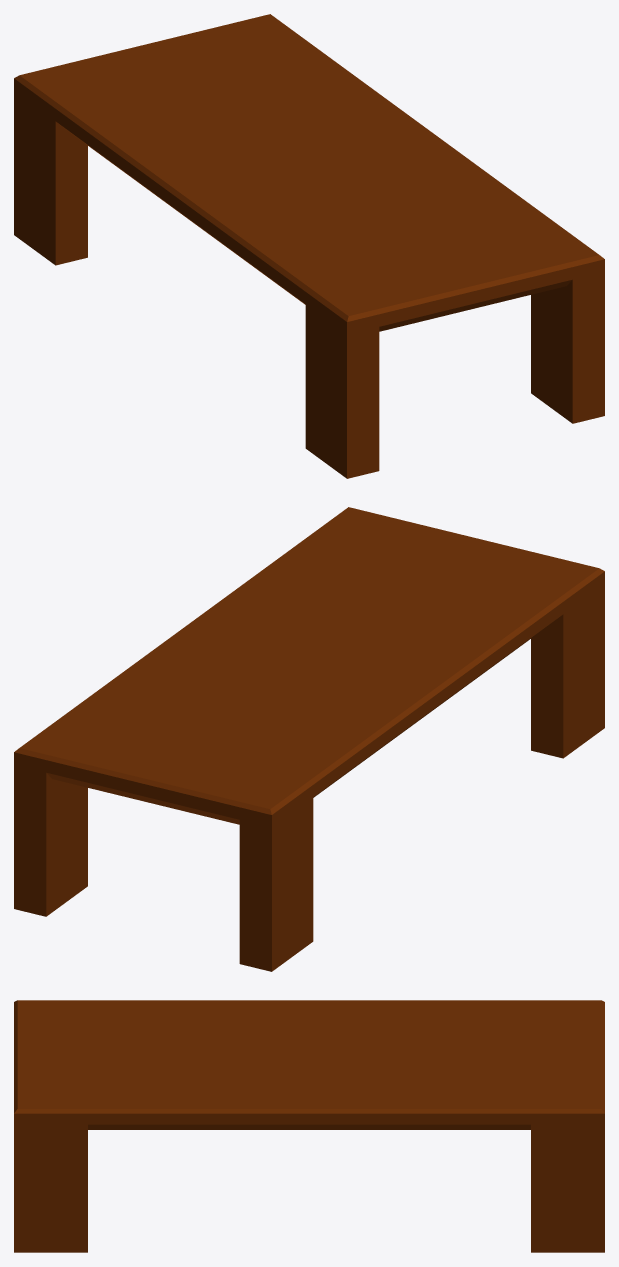
The model's file is Table.fbx.
3 views of the same model, one above another, from view 1: azimuth 30°, elevation 25°; view 2: azimuth 150°, elevation 25°; view 3: azimuth 270°, elevation 25° (orthographic). The views are drawn at different scales.
Visible parts, largest first — view 1: Table; view 2: Table; view 3: Table.
Part boxes in pixels (x1=…): Table: x1=14, y1=14, x2=604, y2=478; Table: x1=14, y1=507, x2=604, y2=971; Table: x1=14, y1=1000, x2=604, y2=1252.
Size of the model in its own units: 200 by 119 by 448.
